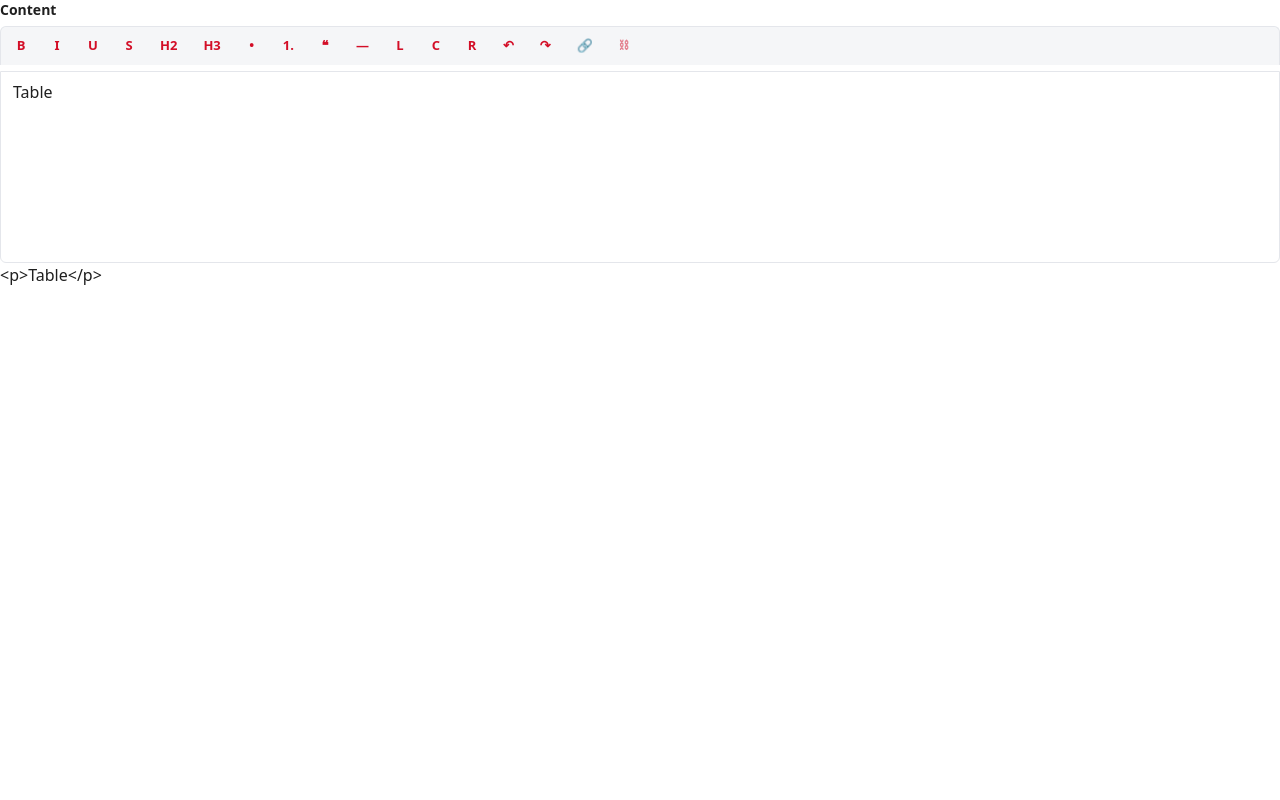
Test: RichTextEditor › adds a link through the link dialog, fixing a bare domain and refusing javascript:
Click the button named "Link".
click(585, 46)  # box [566,31,604,60]
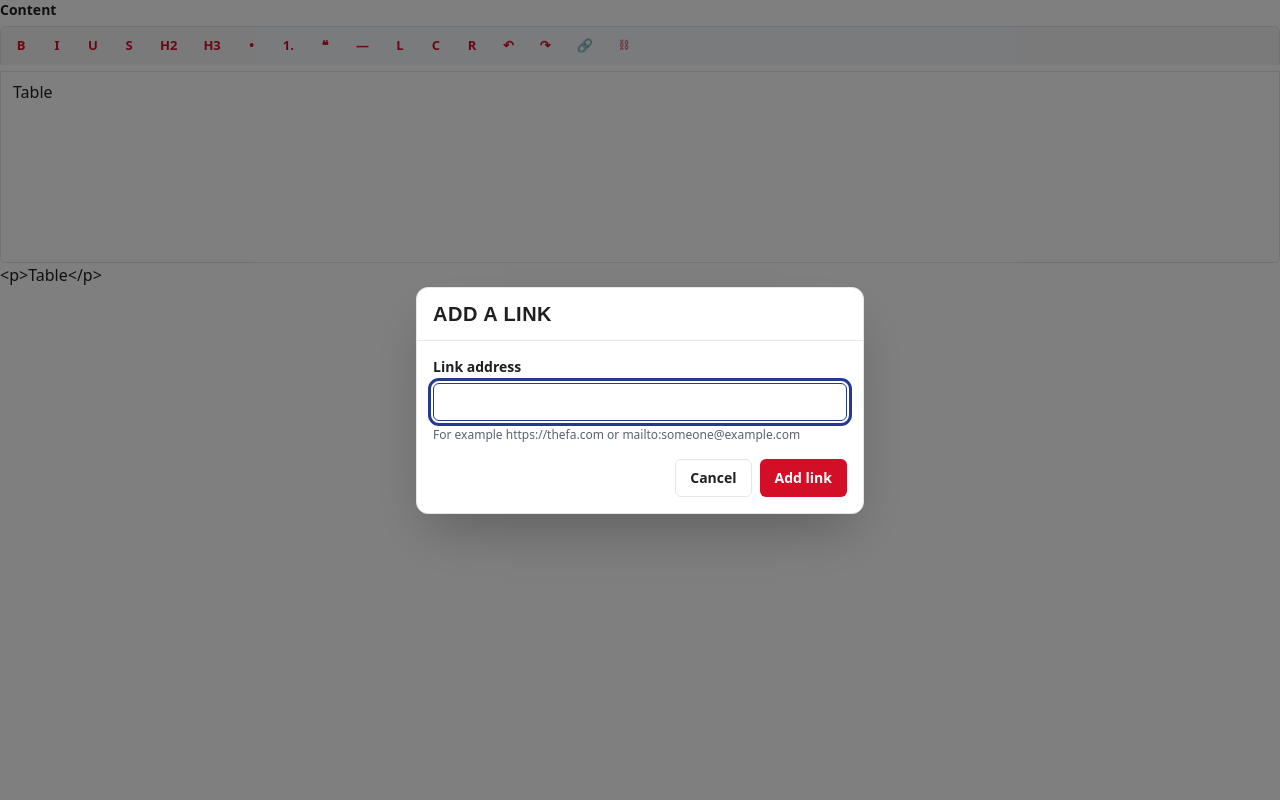
Type "javascript:alert(1)" into the field labelled "Link address".
click(640, 402); type("javascript:alert(1)")  # box [433,382,847,420]
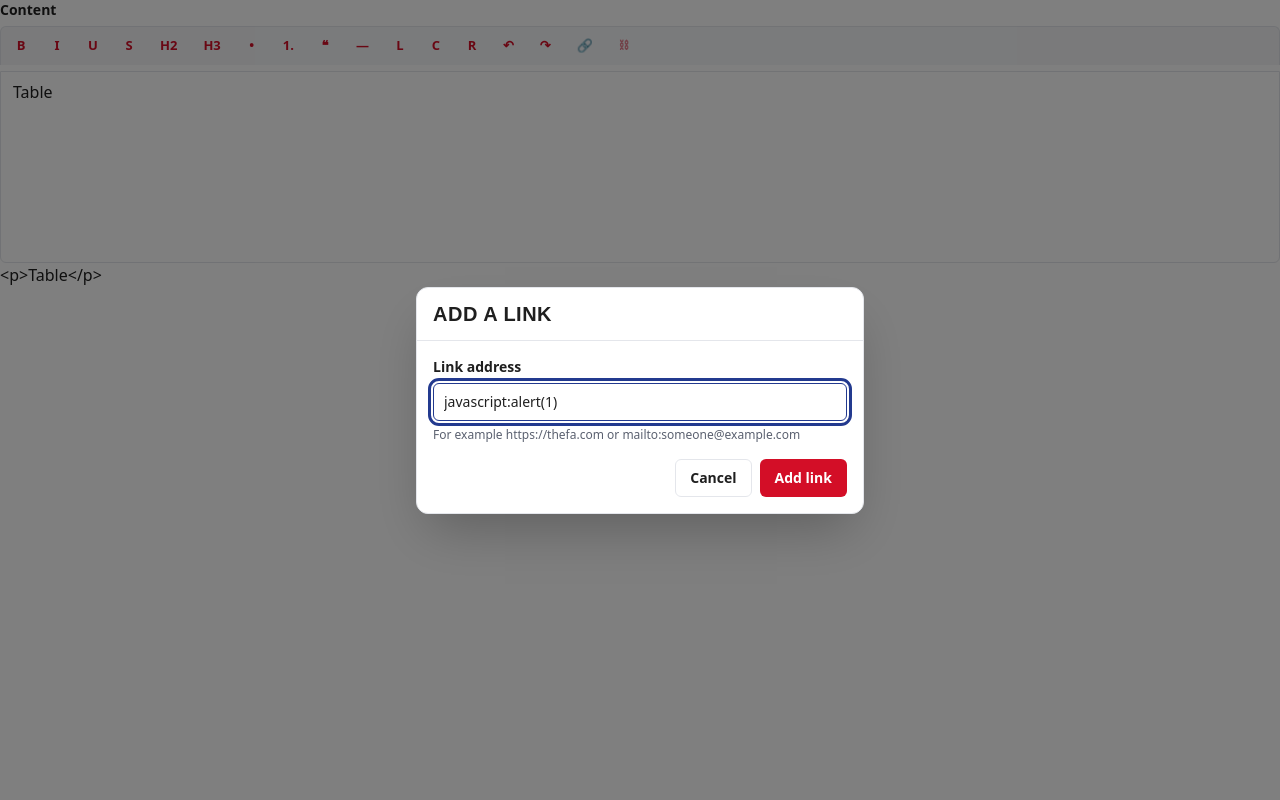
Click the button "Add link".
click(803, 478)  # box [760,458,847,496]
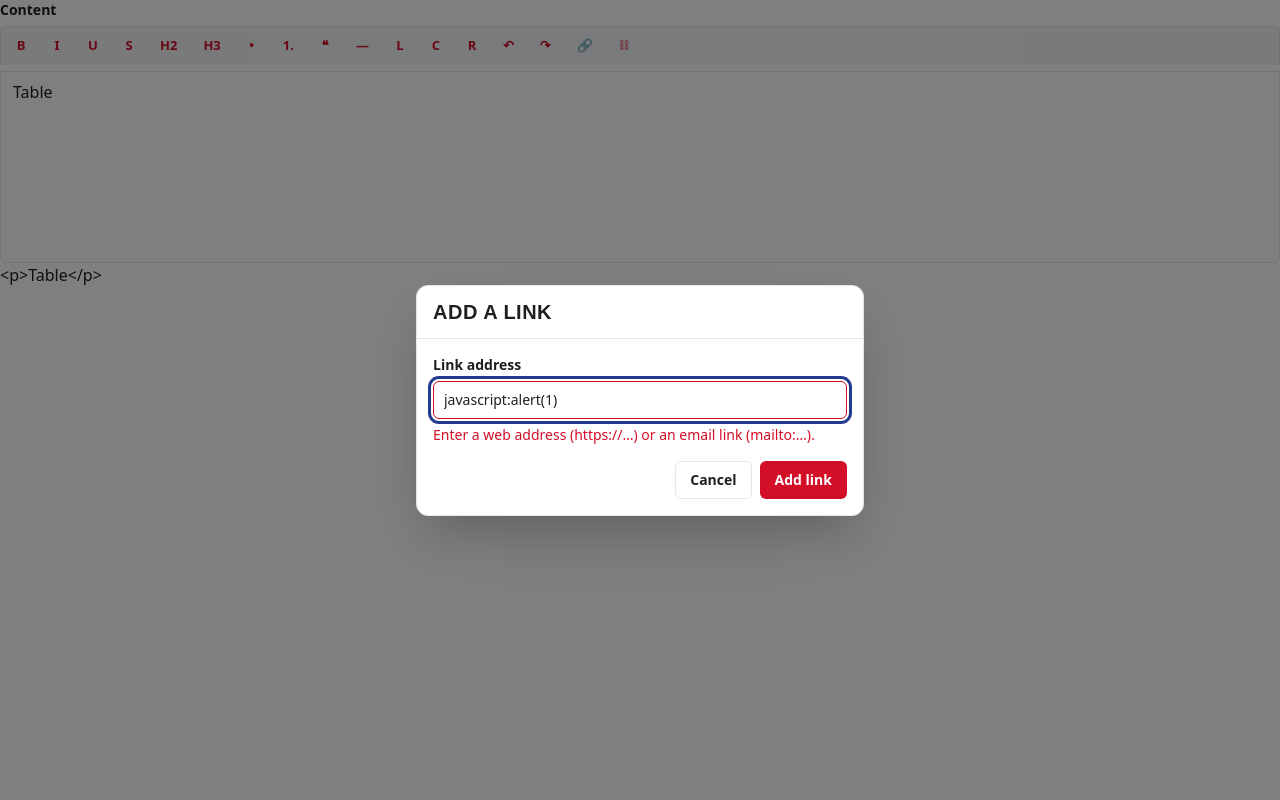
Replace the text in the field labelled "Link address" with "league.example" at (640, 400), box [433,380,847,418]
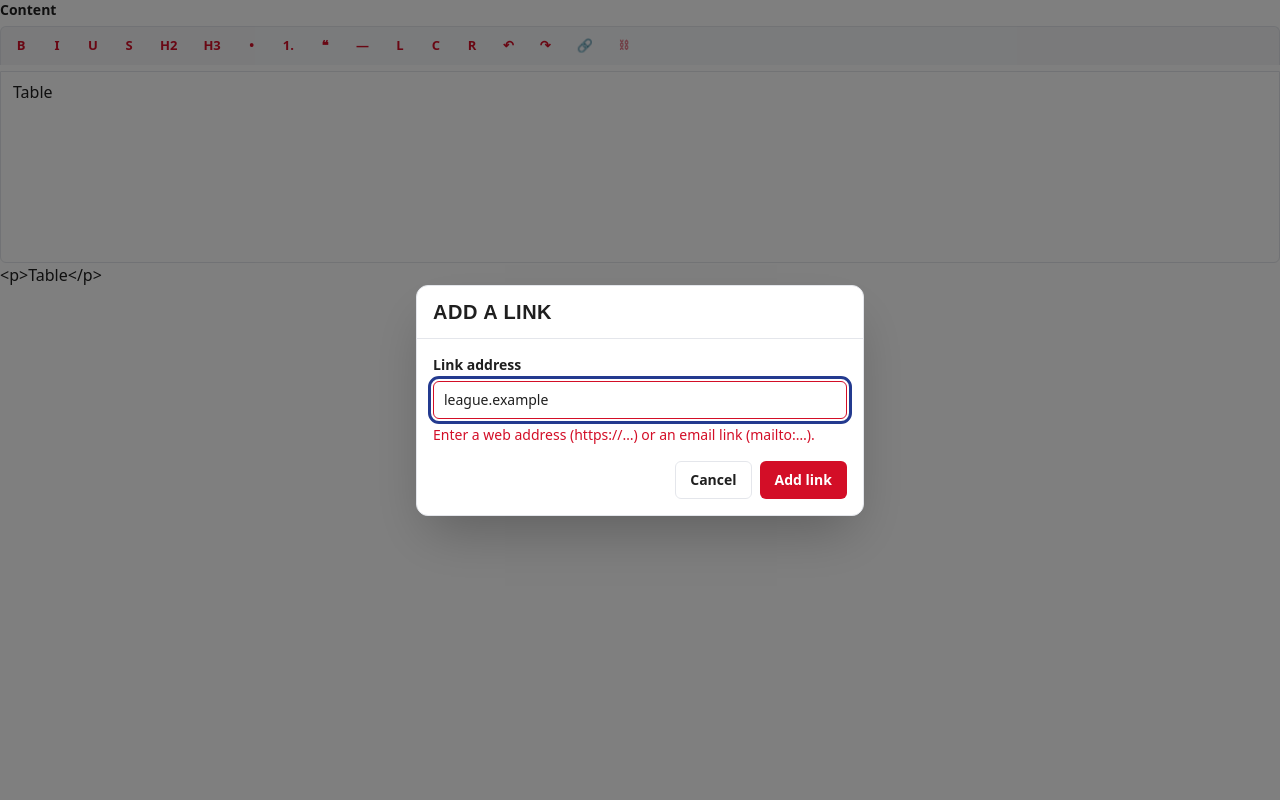
Click the button "Add link".
click(803, 480)  # box [760,460,847,498]
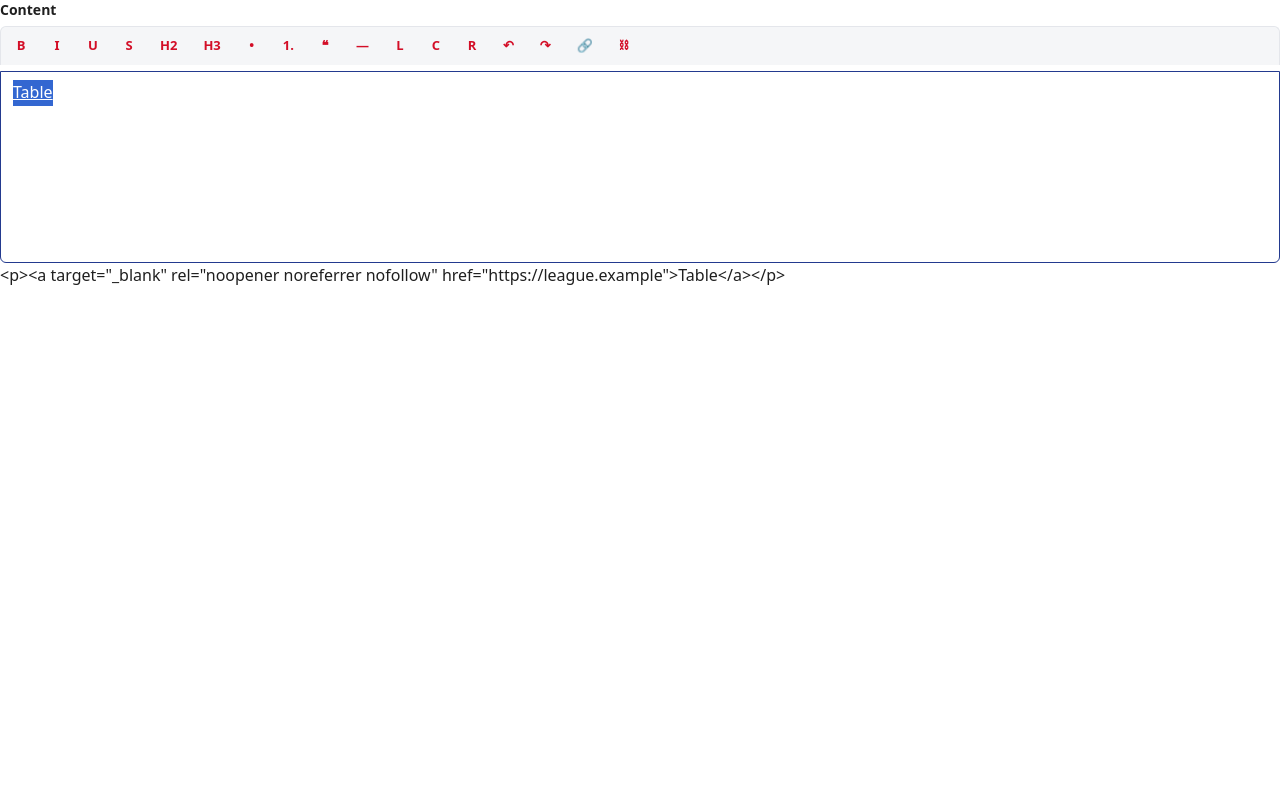
Expected: the heading "Add a link" is gone
Expected: the text "href=\"https://league.example\"" is shown, [0,264,785,286]
